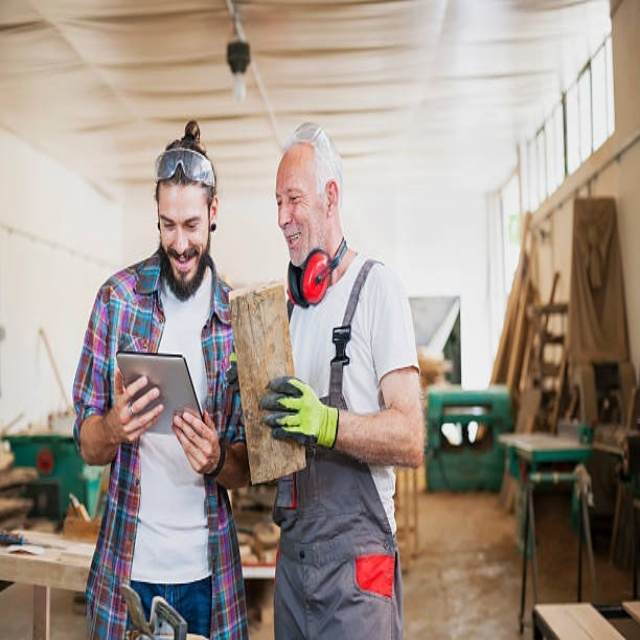Guantes: (261, 373, 342, 456)
Sin_gafas: (274, 176, 318, 213), (158, 204, 206, 234)
Sin_guantes: (105, 370, 166, 450), (169, 402, 220, 478)
Sin_mascara: (165, 243, 198, 278), (281, 223, 307, 257)
